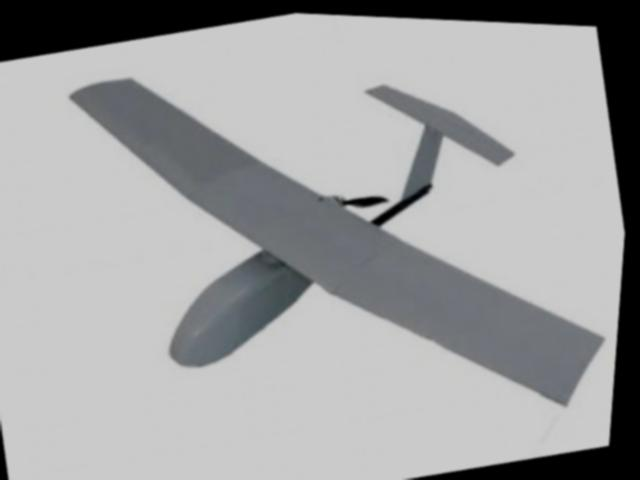uav: (44, 3, 640, 480)
